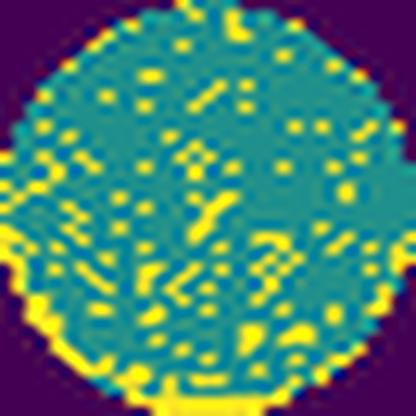Edge-Loc: (0, 220, 116, 380), (115, 358, 298, 416), (384, 232, 416, 272)
